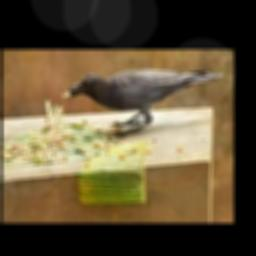Crow: (65, 69, 224, 130)
